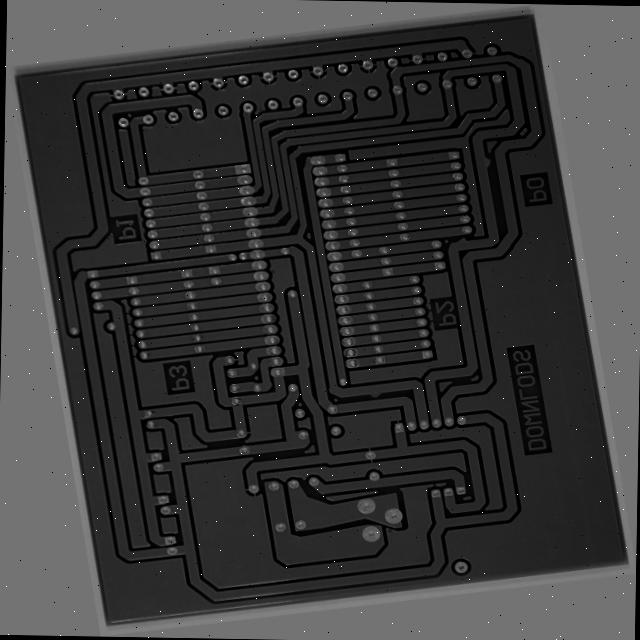spur: (354, 404, 381, 416), (539, 162, 556, 181), (491, 249, 511, 261)
